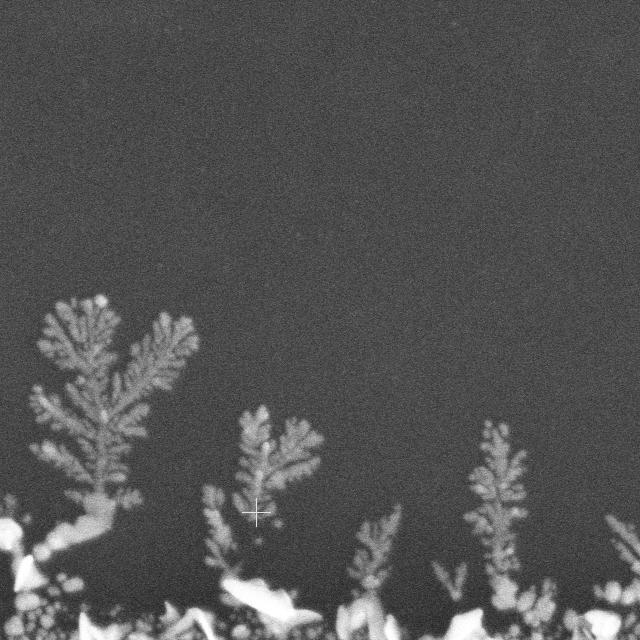Dendrite: (29, 294, 199, 560), (228, 405, 323, 547), (0, 488, 83, 640), (464, 420, 527, 609), (221, 576, 340, 640), (348, 502, 402, 597), (122, 602, 249, 640), (594, 514, 640, 607), (492, 578, 560, 640), (203, 484, 241, 576), (337, 593, 404, 640), (564, 609, 621, 640), (79, 609, 128, 640), (432, 561, 466, 603)
